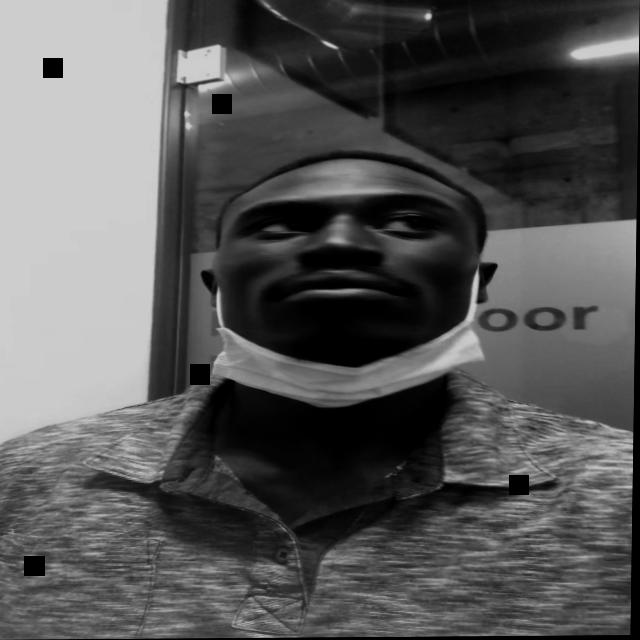NO-Mask: (212, 175, 492, 361)
